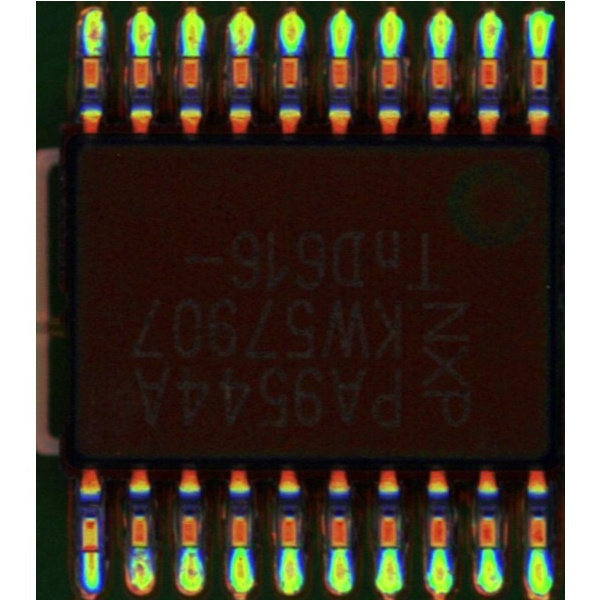Bad_podu: (83, 542, 96, 560)
